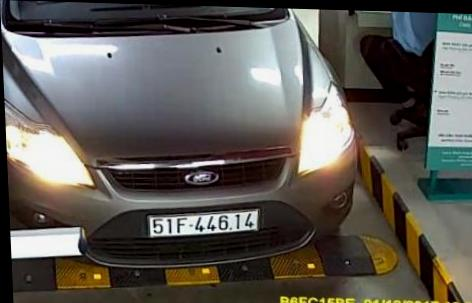License_Plate: (145, 205, 265, 241)
